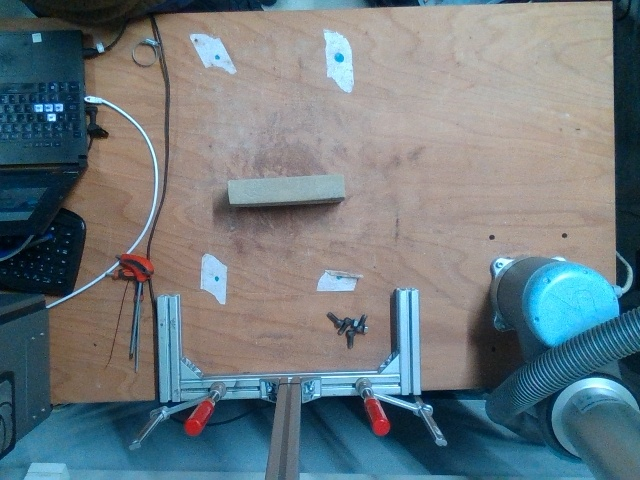brick-side: (228, 174, 341, 200)
